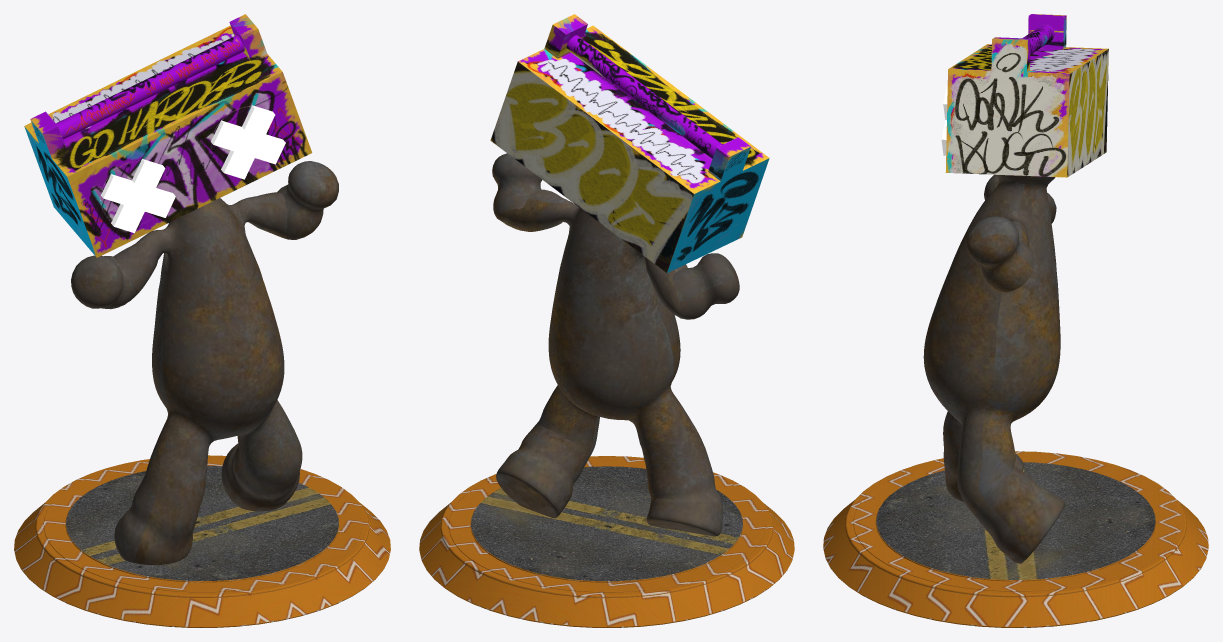
3 views of the same model, side by side, from view 1: azimuth 30°, elevation 25°; view 2: azimuth 150°, elevation 25°; view 3: azimuth 270°, elevation 25° (orthographic). The views are drawn at different scales.
Parts seen in each view (by area): view 1: BBody; view 2: BBody; view 3: BBody.
Boxes of the visible parts, x1,y1,x2,y2 form: BBody: [14, 14, 390, 627]; BBody: [419, 14, 794, 627]; BBody: [823, 14, 1208, 627].
Size of the model in its own units: 1.45 by 2.2 by 1.45.
Materials: 5 (4 with a texture image).
